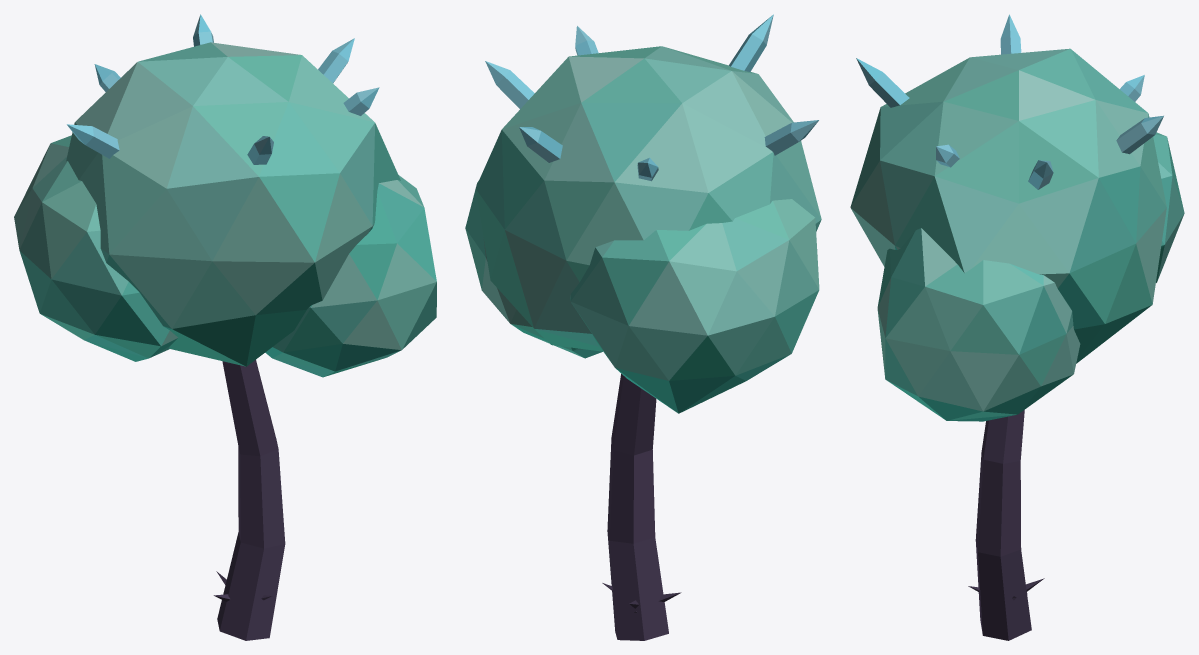
The model's file is Tree_Aether_A.fbx.
3 views of the same model, side by side, from view 1: azimuth 30°, elevation 25°; view 2: azimuth 150°, elevation 25°; view 3: azimuth 270°, elevation 25° (orthographic). The views are drawn at different scales.
Visible parts, largest first — view 1: Tree_Aether_A; view 2: Tree_Aether_A; view 3: Tree_Aether_A.
Boxes of the visible parts, <box> form: Tree_Aether_A: <box>14,14,436,640</box>; Tree_Aether_A: <box>465,14,821,640</box>; Tree_Aether_A: <box>850,14,1184,640</box>.
Size of the model in its own units: 2.74 by 4.3 by 2.35.
